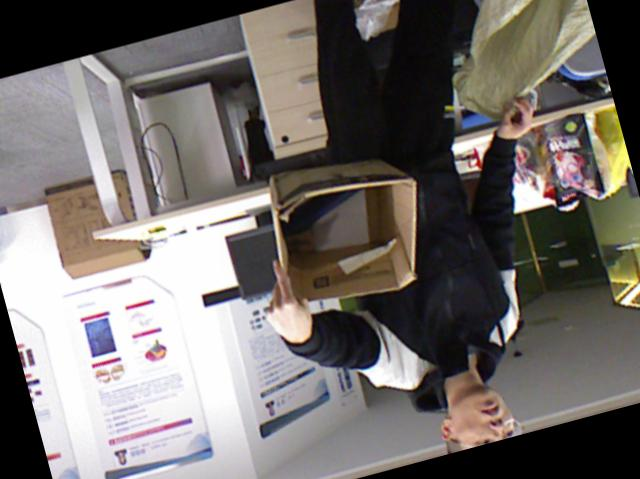cardboard paper: (269, 160, 415, 300), (45, 181, 148, 277)
